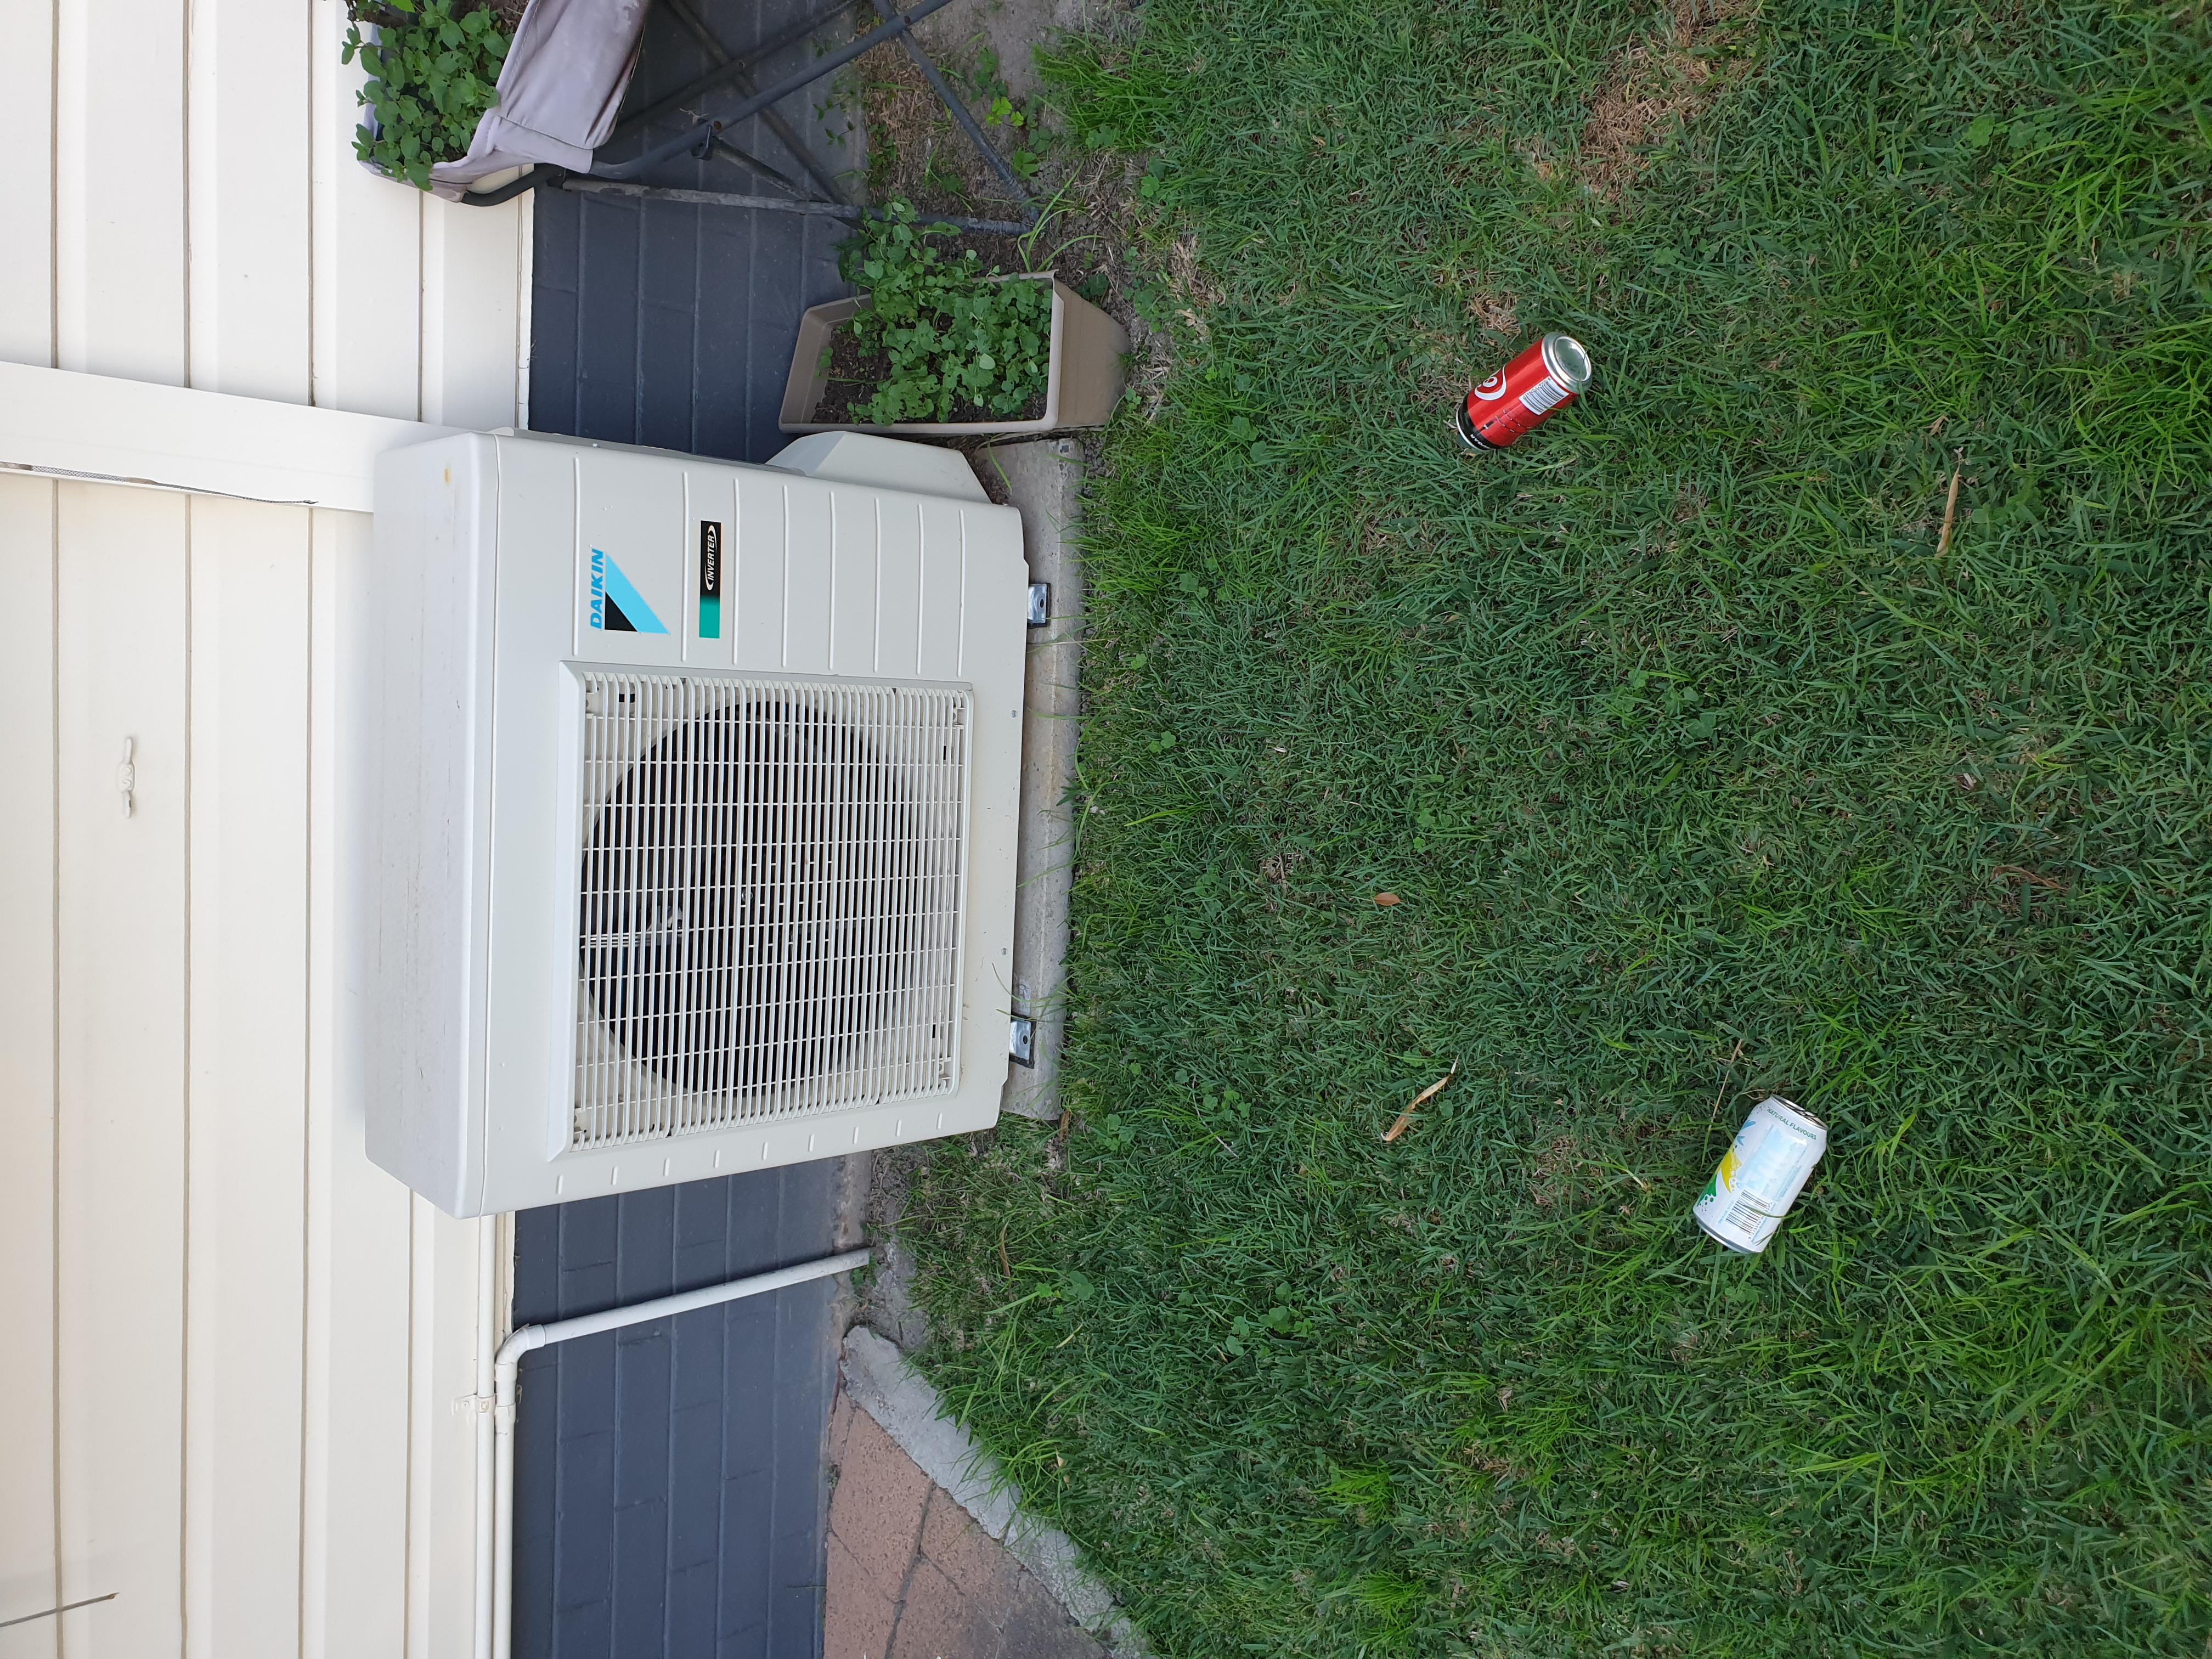Plastic Bottle: (1693, 1093, 1829, 1256), (1454, 331, 1590, 451)
